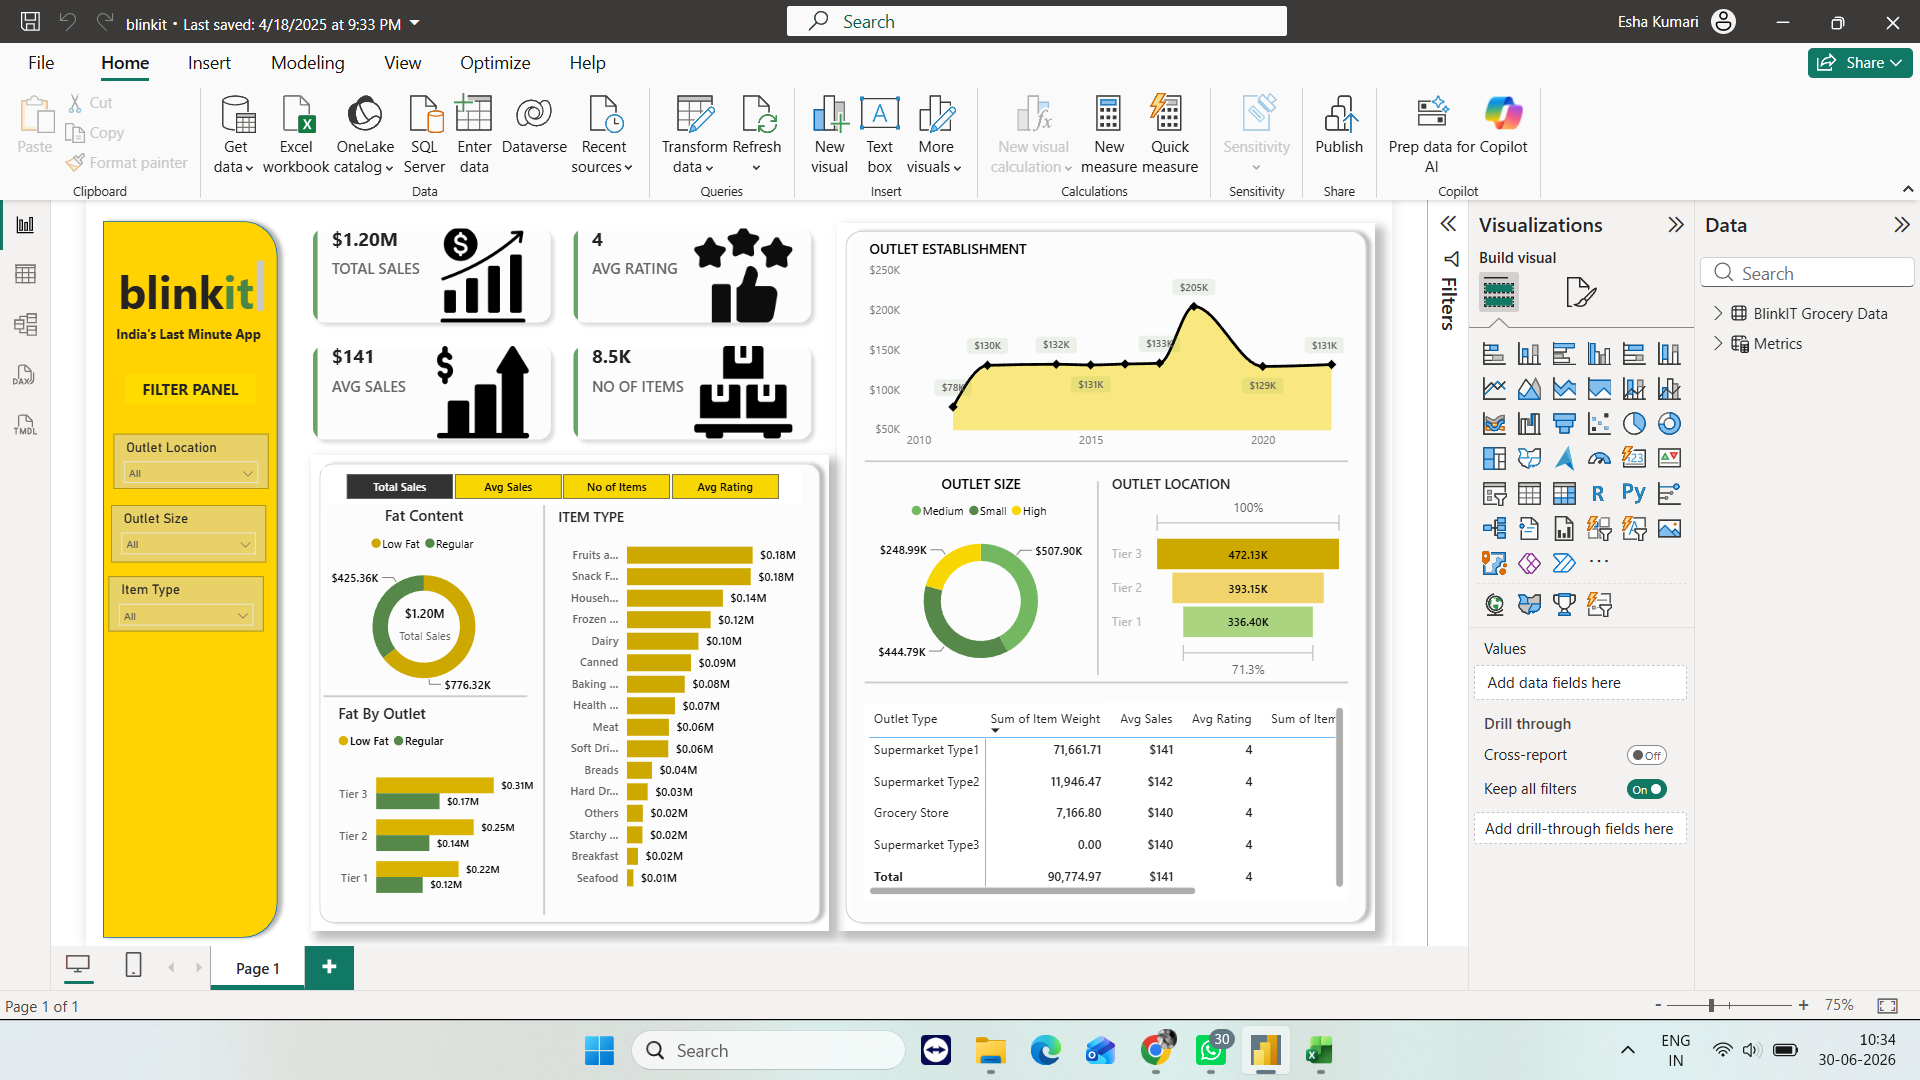

This screenshot's page, from the dashboard's own definition file:
{"tool":"powerbi","page":{"name":"Page 1","canvas":[1400,800],"ordinal":0},"visuals":[{"type":"shape","box":[9.4,13.4,205.1,786.9],"z":0},{"type":"textbox","box":[29.5,60.3,166.2,68.4],"z":1000},{"type":"textbox","box":[24.1,128.7,171.6,29.5],"z":2000},{"type":"cardVisual","fields":{"Data":["BlinkIT Grocery Data.Total Sales","BlinkIT Grocery Data.Avg Rating","BlinkIT Grocery Data.Avg Sales","BlinkIT Grocery Data.No of Items"]},"box":[226.5,13.4,569.7,260.1],"z":3000},{"type":"shape","box":[241.3,273.5,555,510.7],"z":4000},{"type":"donutChart","title":"Fat Content","fields":{"Y":["BlinkIT Grocery Data.Total Sales"],"Category":["BlinkIT Grocery Data.Item Fat Content"]},"box":[253.4,327.1,218.5,211.8],"z":5000},{"type":"slicer","fields":{"Values":["Metrics.Metrics"]},"box":[253.4,286.9,513.4,40.2],"z":6000},{"type":"cardVisual","fields":{"Data":["BlinkIT Grocery Data.Total Sales"]},"box":[311,419.6,105.9,71],"z":7000},{"type":"clusteredBarChart","title":"Fat By Outlet","fields":{"Y":["BlinkIT Grocery Data.Total Sales"],"Category":["BlinkIT Grocery Data.Outlet Location Type"],"Series":["BlinkIT Grocery Data.Item Fat Content"]},"box":[265.4,538.9,219.8,229.2],"z":8000},{"type":"shape","box":[254.7,524.1,218.5,16.1],"z":9000},{"type":"shape","box":[485.3,327.1,12.1,439.7],"z":10000},{"type":"barChart","title":"ITEM TYPE","fields":{"Y":["BlinkIT Grocery Data.Total Sales"],"Category":["BlinkIT Grocery Data.Item Type"]},"box":[501.3,329.8,265.4,420.9],"z":11000},{"type":"shape","box":[805.6,24.1,576.4,760.1],"z":12000},{"type":"lineChart","title":"OUTLET ESTABLISHMENT","fields":{"Y":["BlinkIT Grocery Data.Total Sales"],"Category":["BlinkIT Grocery Data.Outlet Establishment Year"]},"box":[835.1,41.6,518.8,234.6],"z":13000},{"type":"shape","box":[835.1,273.5,518.8,13.4],"z":14000},{"type":"donutChart","title":"OUTLET SIZE","fields":{"Y":["BlinkIT Grocery Data.Total Sales"],"Category":["BlinkIT Grocery Data.Outlet Size"]},"box":[835.1,293.6,249.3,225.2],"z":15000},{"type":"funnel","title":"OUTLET LOCATION","fields":{"Y":["Sum(BlinkIT Grocery Data.Sales)"],"Category":["BlinkIT Grocery Data.Outlet Location Type"]},"box":[1095.2,293.6,258.7,225.2],"z":16000},{"type":"shape","box":[835.1,510.7,518.8,13.4],"z":17000},{"type":"shape","box":[975.9,301.6,218.5,207.8],"z":18000},{"type":"pivotTable","fields":{"Rows":["BlinkIT Grocery Data.Outlet Type"],"Values":["Sum(BlinkIT Grocery Data.Item Weight)","BlinkIT Grocery Data.Avg Sales","BlinkIT Grocery Data.Avg Rating","Sum(BlinkIT Grocery Data.Item Visibility)","BlinkIT Grocery Data.Total Sales"]},"box":[835.1,538.9,518.8,211.8],"z":19000},{"type":"slicer","fields":{"Values":["BlinkIT Grocery Data.Outlet Location Type"]},"box":[29.5,250.7,166.2,59],"z":20000},{"type":"slicer","fields":{"Values":["BlinkIT Grocery Data.Outlet Size"]},"box":[26.8,327.1,166.2,61.7],"z":21000},{"type":"slicer","fields":{"Values":["BlinkIT Grocery Data.Item Type"]},"box":[24.1,403.5,166.2,59],"z":22000},{"type":"textbox","box":[41.6,186.3,140.8,32.2],"z":23000}]}

Visuals, with their boxes on the page's 1400x800 design canvas (x1, y1, x2, y2). These are canvas units, not pixel positions in the 1920x1080 screenshot, which may show the page scaled, cropped or inside an application window:
shape: box=[9, 13, 214, 800]
textbox: box=[30, 60, 196, 129]
textbox: box=[24, 129, 196, 158]
cardVisual - BlinkIT Grocery Data.Total Sales x BlinkIT Grocery Data.Avg Rating: box=[226, 13, 796, 274]
shape: box=[241, 274, 796, 784]
"Fat Content" donutChart: box=[253, 327, 472, 539]
slicer - Metrics.Metrics: box=[253, 287, 767, 327]
cardVisual - BlinkIT Grocery Data.Total Sales: box=[311, 420, 417, 491]
"Fat By Outlet" clusteredBarChart: box=[265, 539, 485, 768]
shape: box=[255, 524, 473, 540]
shape: box=[485, 327, 497, 767]
"ITEM TYPE" barChart: box=[501, 330, 767, 751]
shape: box=[806, 24, 1382, 784]
"OUTLET ESTABLISHMENT" lineChart: box=[835, 42, 1354, 276]
shape: box=[835, 274, 1354, 287]
"OUTLET SIZE" donutChart: box=[835, 294, 1084, 519]
"OUTLET LOCATION" funnel: box=[1095, 294, 1354, 519]
shape: box=[835, 511, 1354, 524]
shape: box=[976, 302, 1194, 509]
pivotTable - BlinkIT Grocery Data.Outlet Type x Sum(BlinkIT Grocery Data.Item Weight): box=[835, 539, 1354, 751]
slicer - BlinkIT Grocery Data.Outlet Location Type: box=[30, 251, 196, 310]
slicer - BlinkIT Grocery Data.Outlet Size: box=[27, 327, 193, 389]
slicer - BlinkIT Grocery Data.Item Type: box=[24, 404, 190, 462]
textbox: box=[42, 186, 182, 218]
